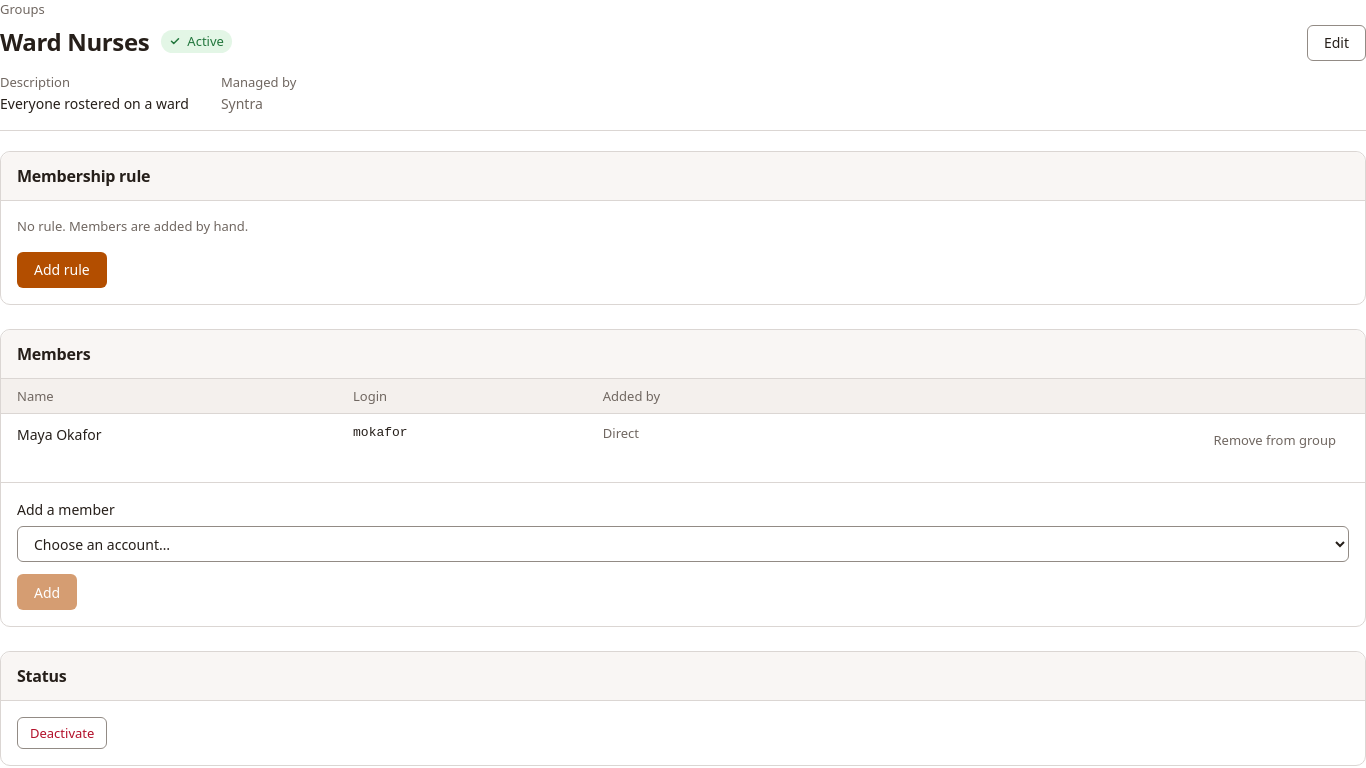
it: GroupDetailPage › members › reports a refused membership change rather than appearing to succeed
This screenshot has width=1366, height=768.
Click the button "Remove from group" at point(1275, 440), box [1200, 424, 1349, 456]
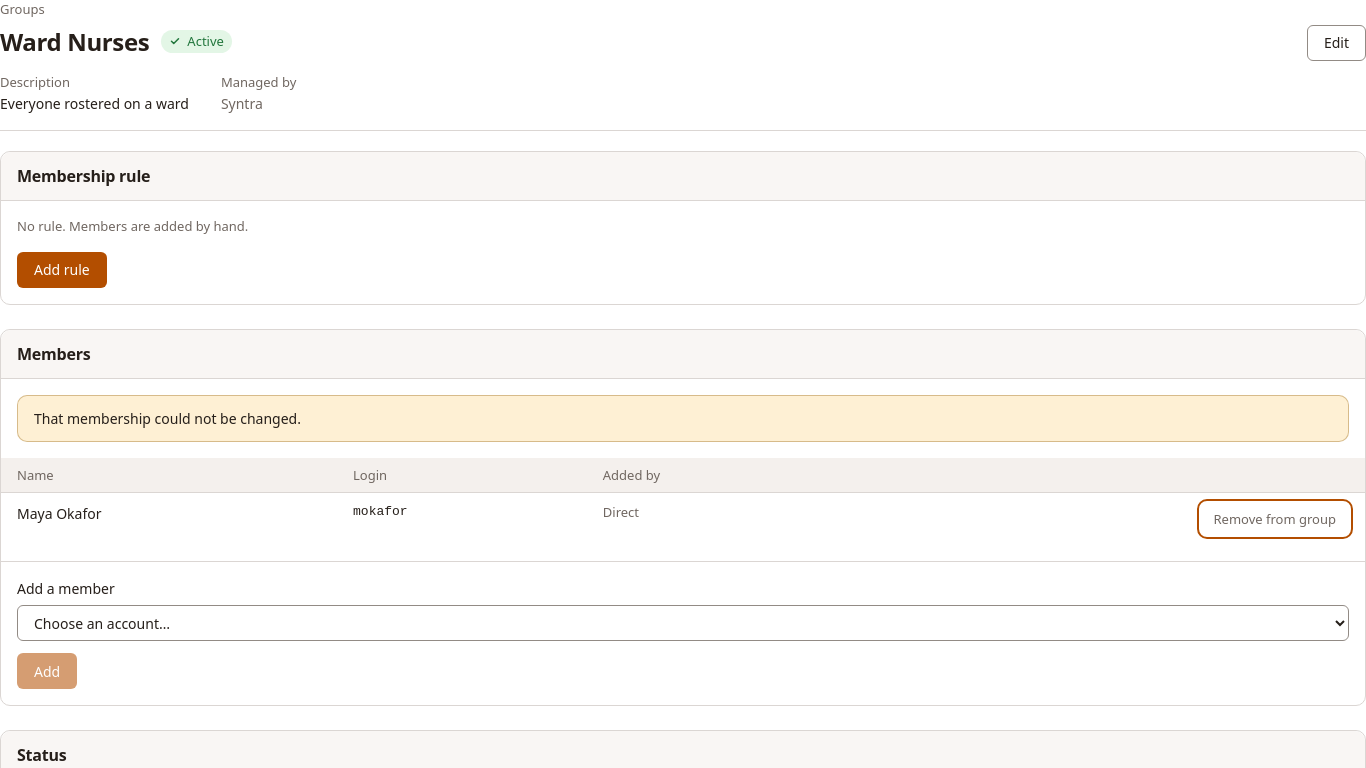
Expected: the text "That membership could not be changed." is shown, [34, 409, 301, 428]
